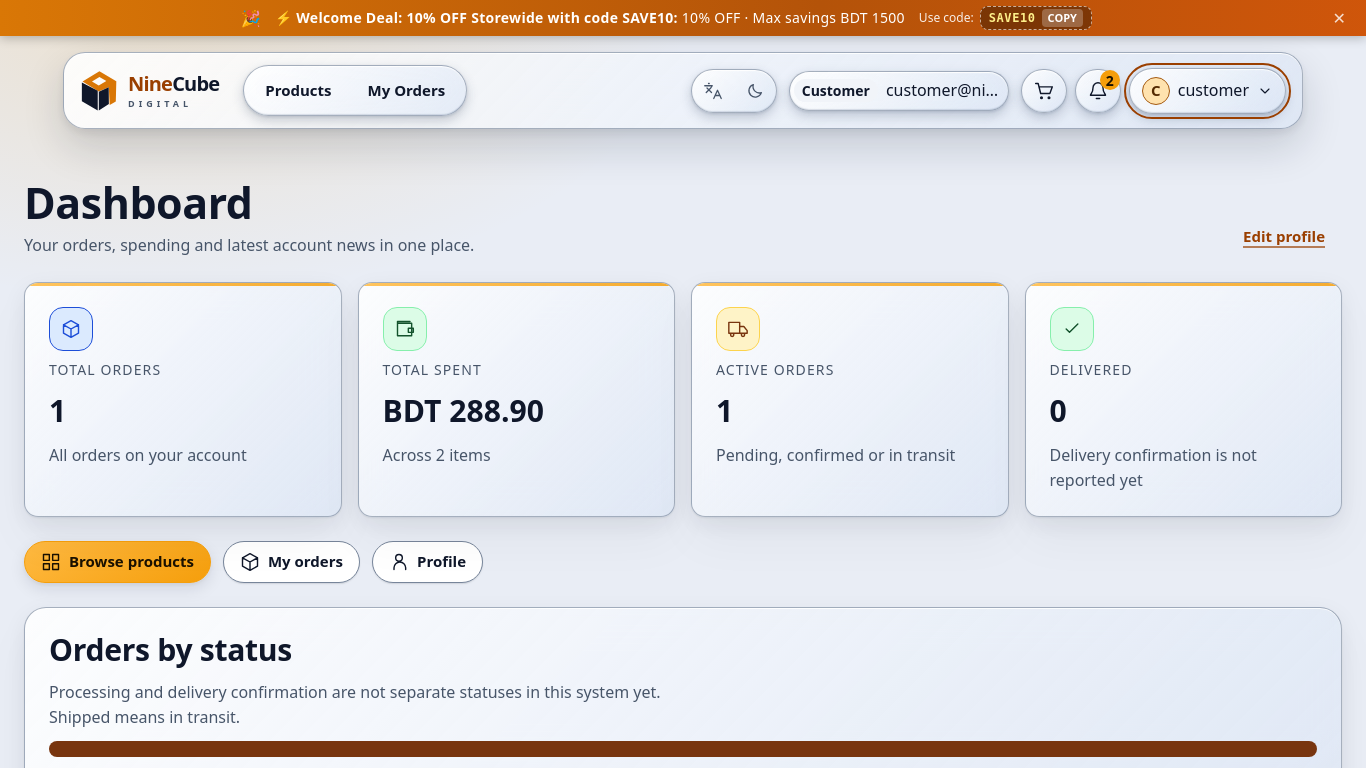
Modern customer controls › portals the account menu and supports arrows, Home, End, Escape and outside close
Press Arrowdown
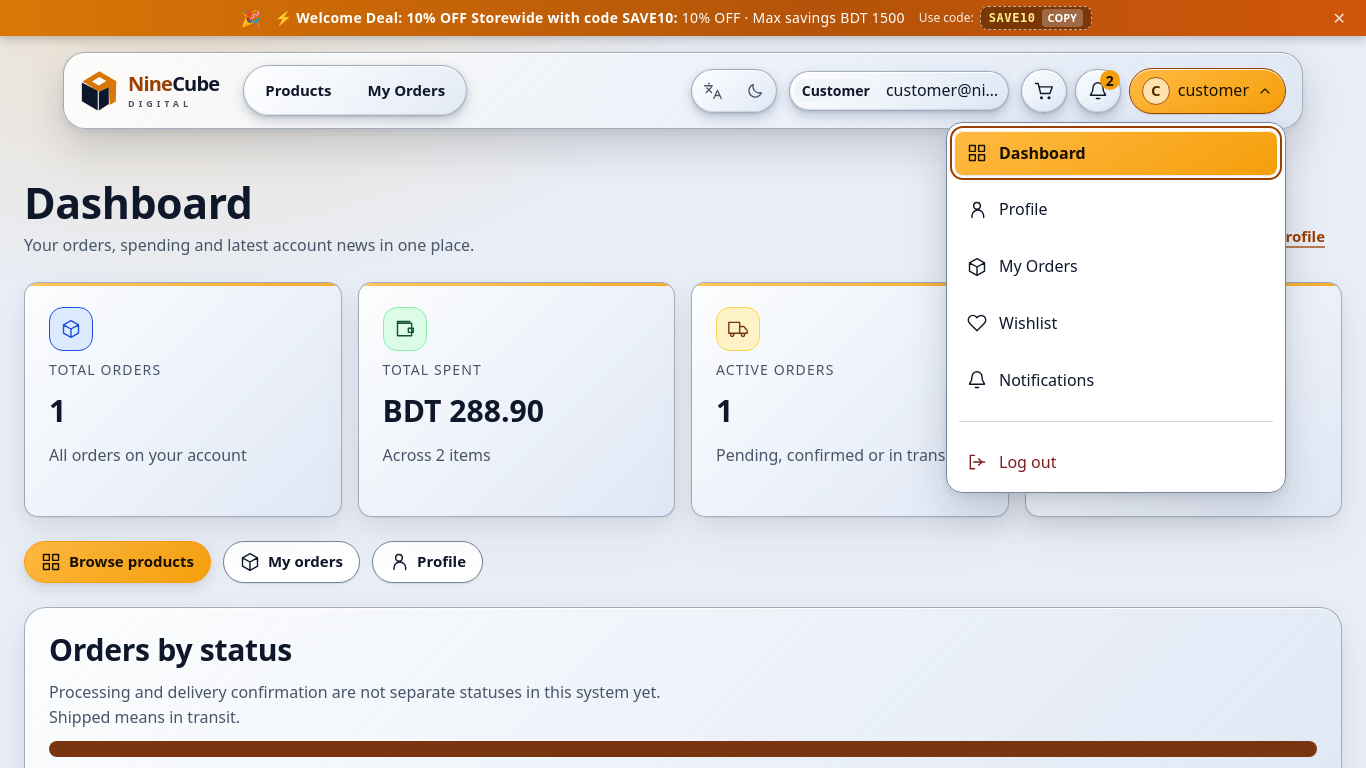
Press End
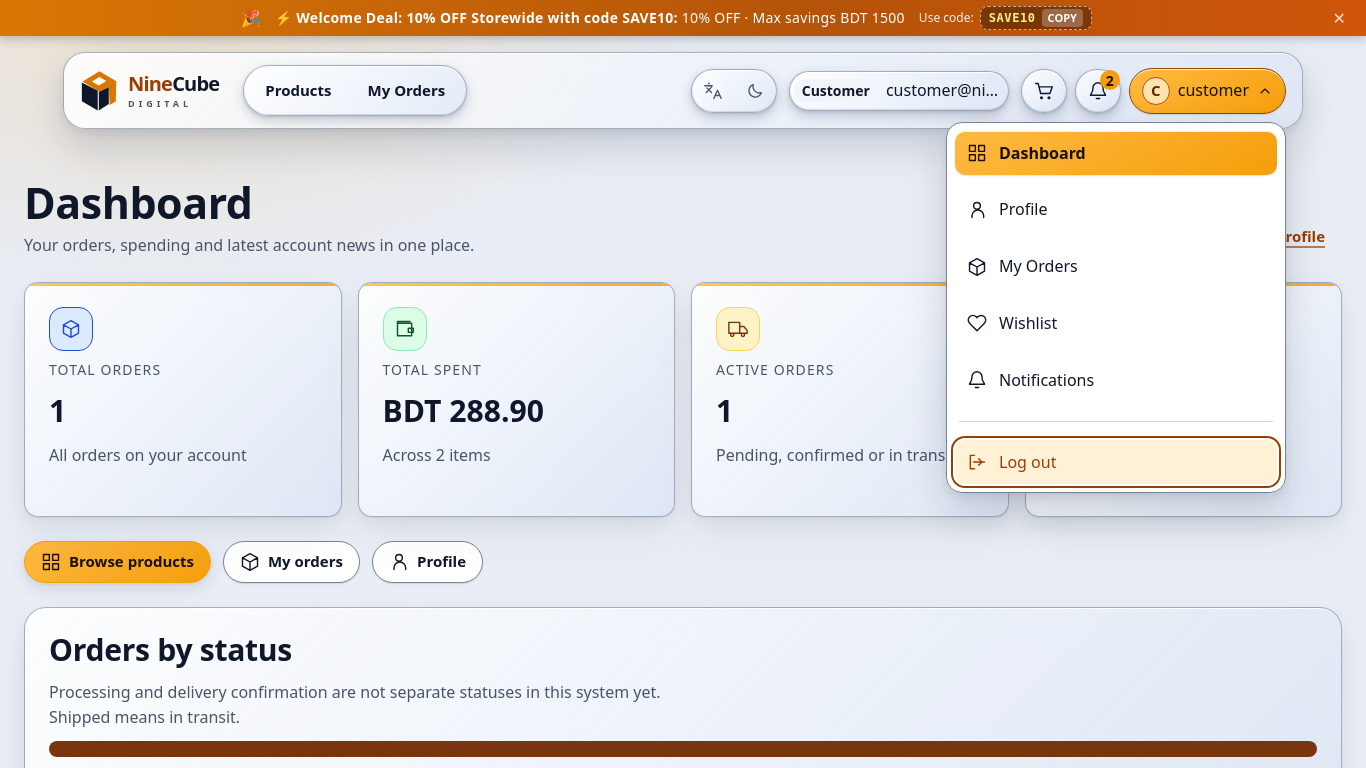
Press Home Arrowdown
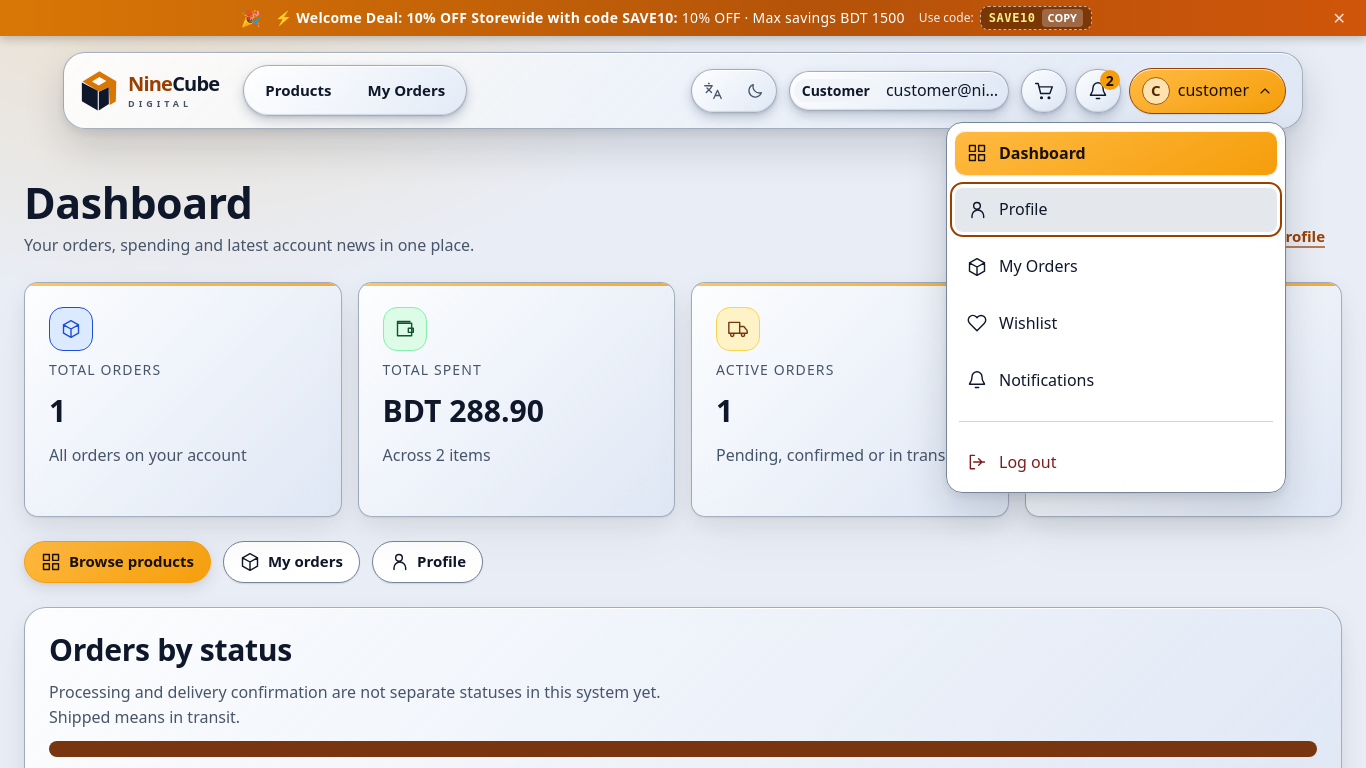
Press Escape
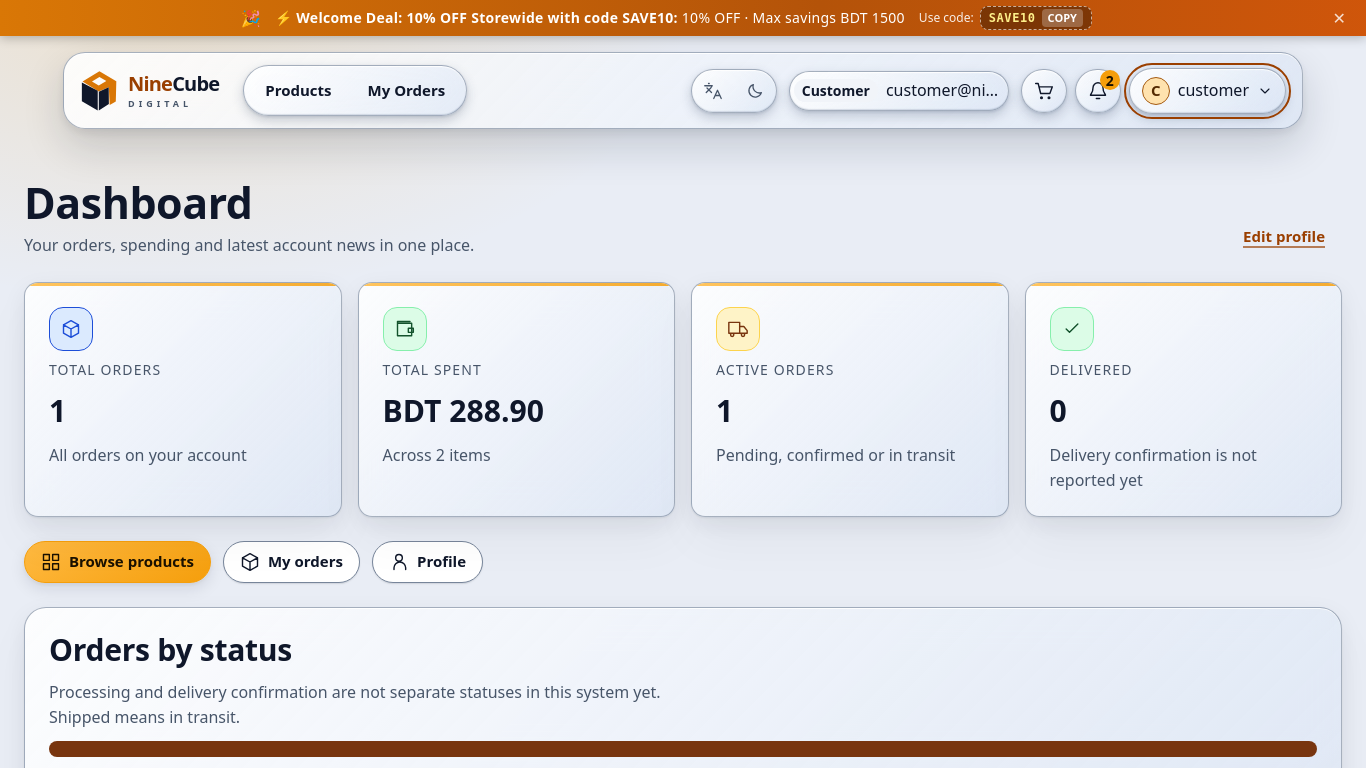
expect the menu is gone: met
Click the button named "Account": {"x": 1207, "y": 91} [1129,68,1286,114]
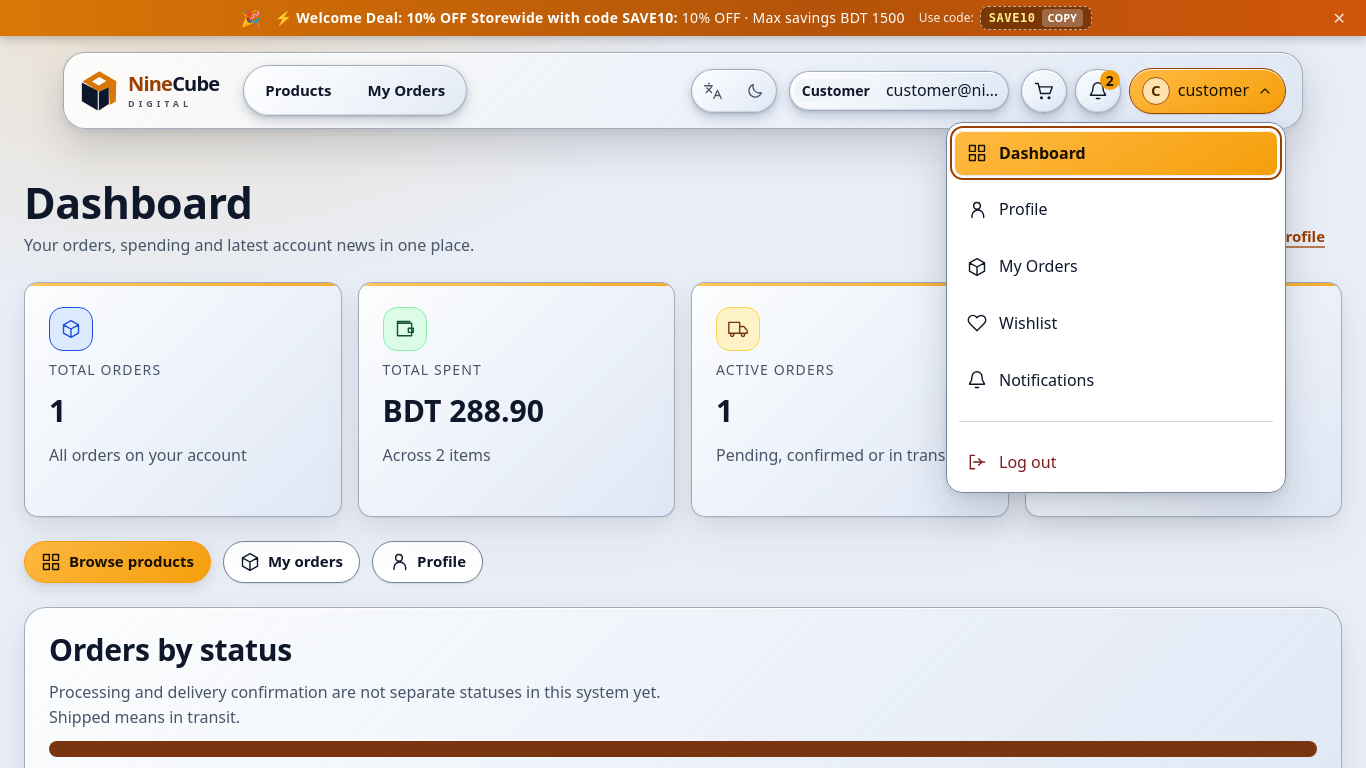
Click the heading "Dashboard": {"x": 138, "y": 203} [24,173,253,232]
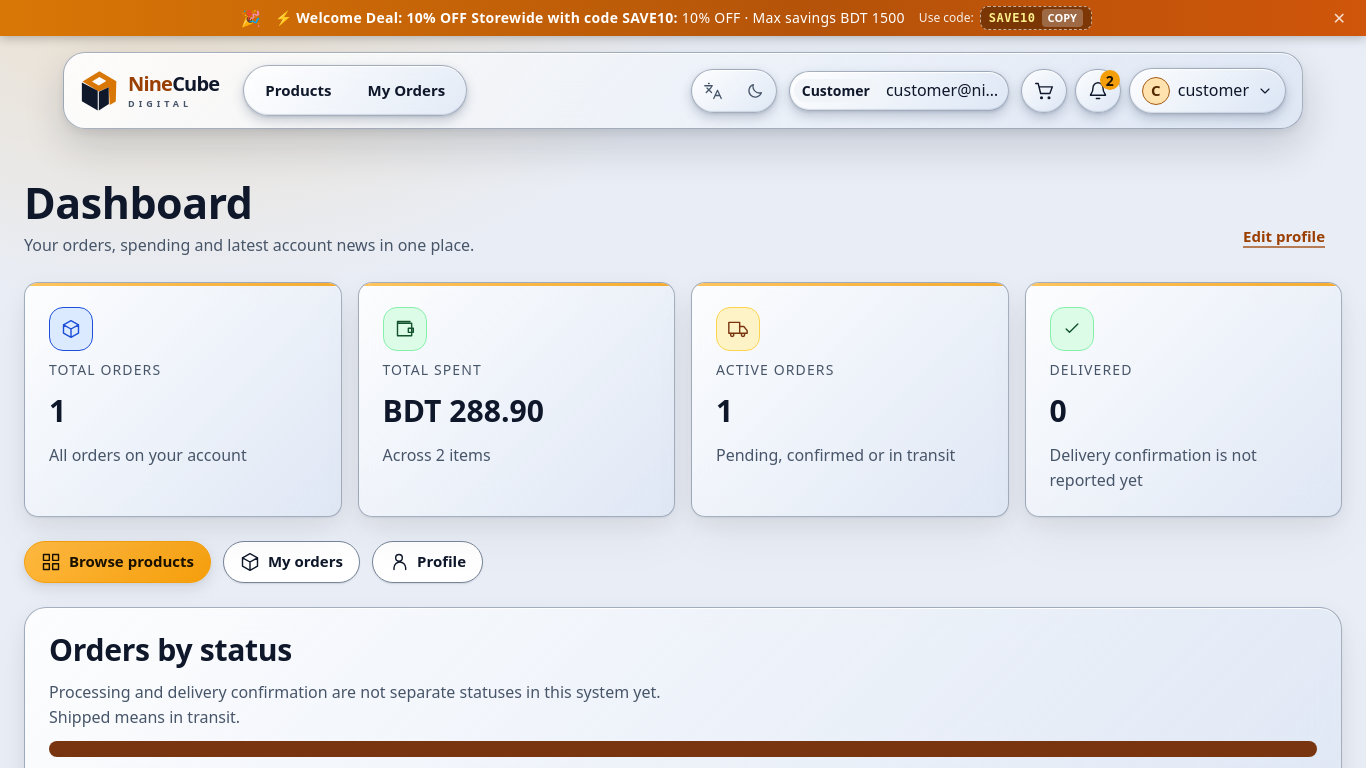
expect the menu is gone: met
